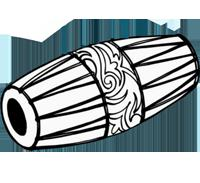Mridangam: (1, 26, 200, 150)
